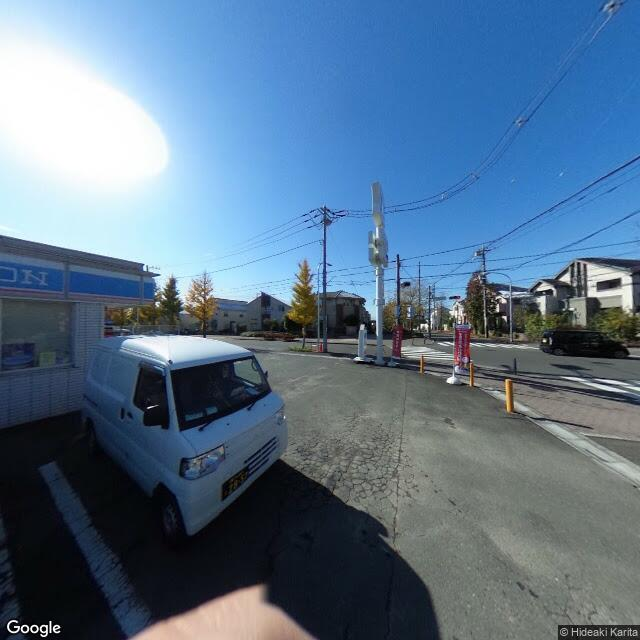lawson: (1, 243, 155, 312)
